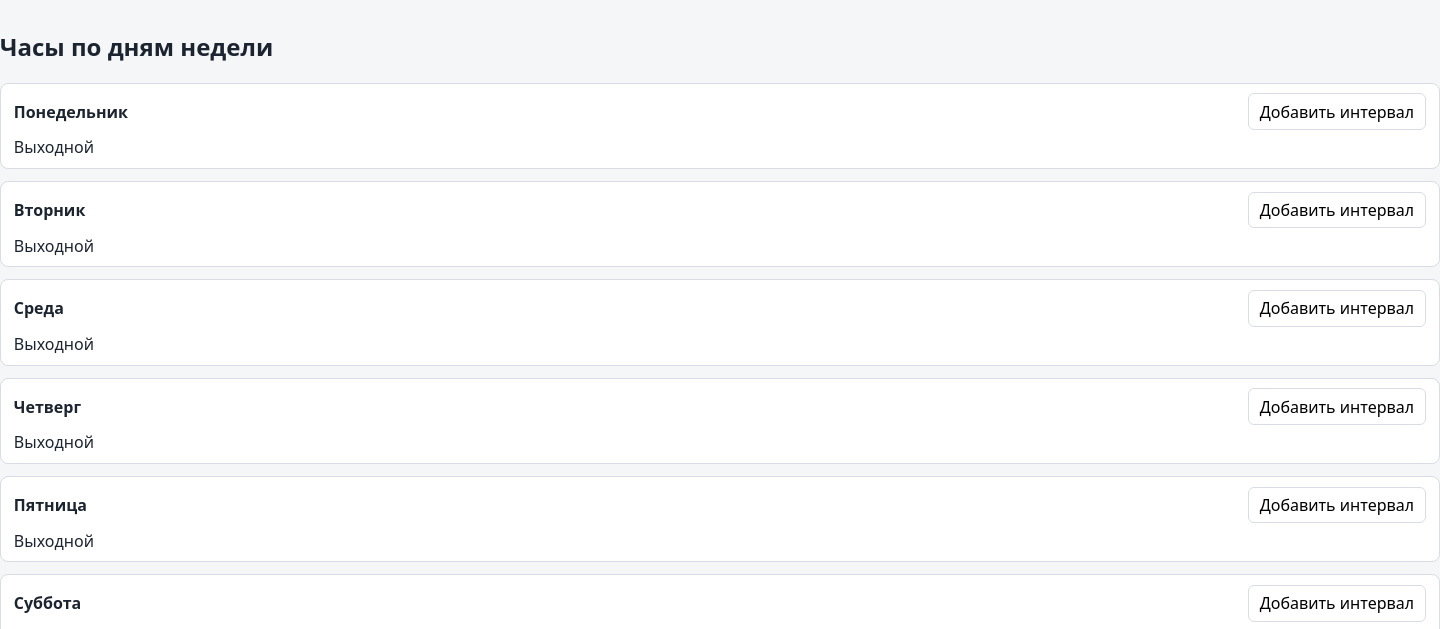
Test: ScheduleEditor (AC-XKH348.4) › surfaces the server 422 message when the backend rejects the hours
Click the button "Добавить интервал" in the row of "Понедельник": (1337,112) [1248,93,1426,130]
(page scrolled)
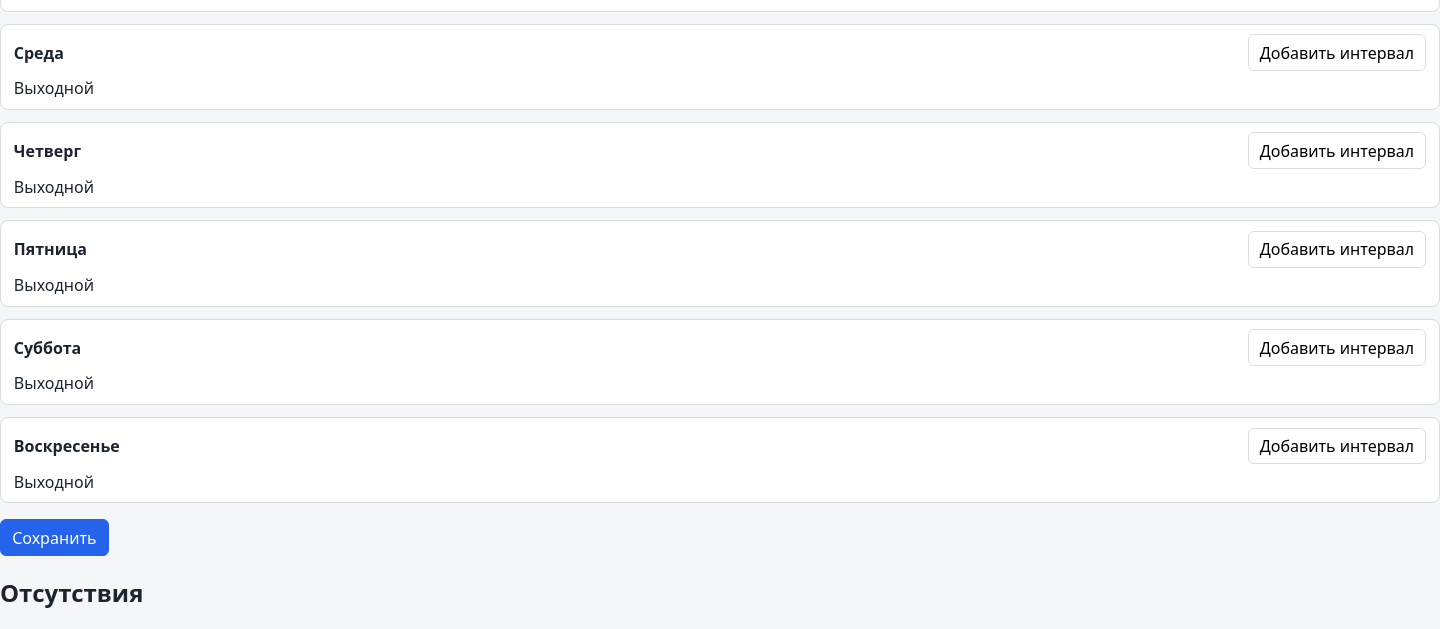
// A single valid interval passes client validation, so the PUT fires and the server 422 wins.
Click the button "Сохранить": (54,538) [0,519,109,556]
(page scrolled)
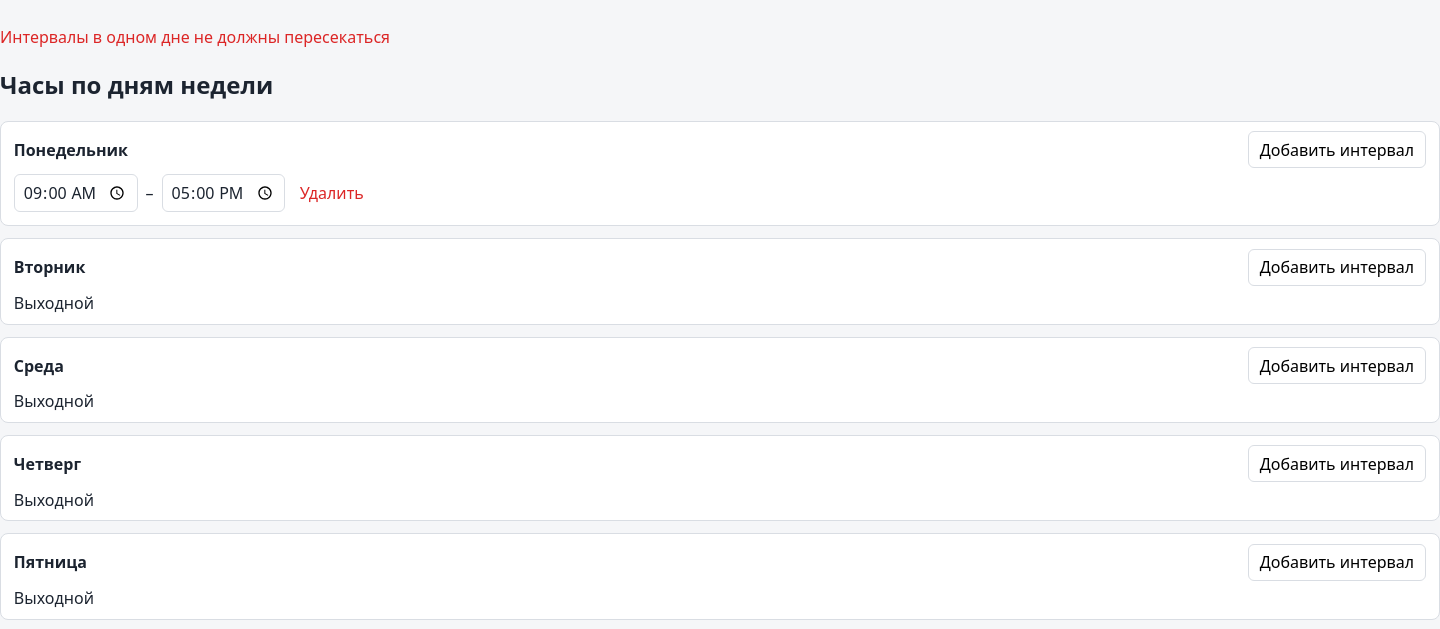
expect the message reads "Интервалы в одном дне не должны пересекаться": met, box [0,26,390,48]
